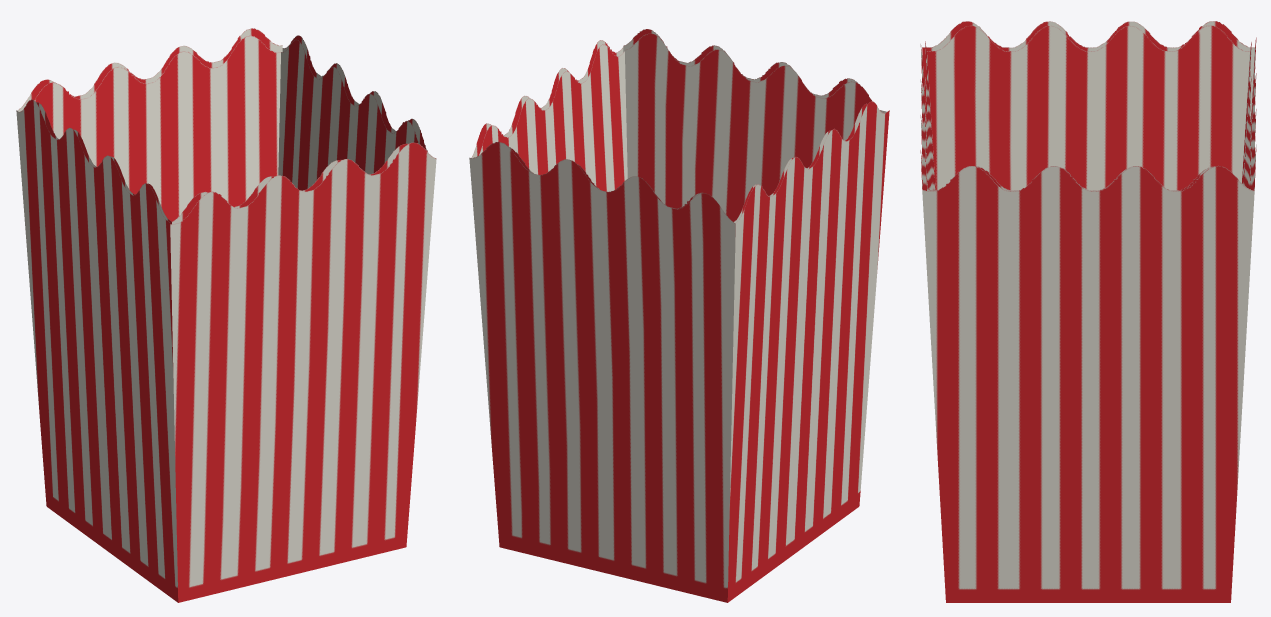
Rendered from Popcorn_bucket01.fbx.
3 renders of one model, left to right at view 1: azimuth 30°, elevation 25°; view 2: azimuth 150°, elevation 25°; view 3: azimuth 270°, elevation 25°, orthographic. The views are drawn at different scales.
Parts seen in each view (by area): view 1: Popcorn_bucket01; view 2: Popcorn_bucket01; view 3: Popcorn_bucket01.
Part boxes in pixels (<box>): Popcorn_bucket01: <box>16,28,436,602</box>; Popcorn_bucket01: <box>469,29,889,602</box>; Popcorn_bucket01: <box>920,21,1256,602</box>.
Size of the model in its own units: 0.2306 by 0.3461 by 0.2306.
Materials: 1 (1 with a texture image).
